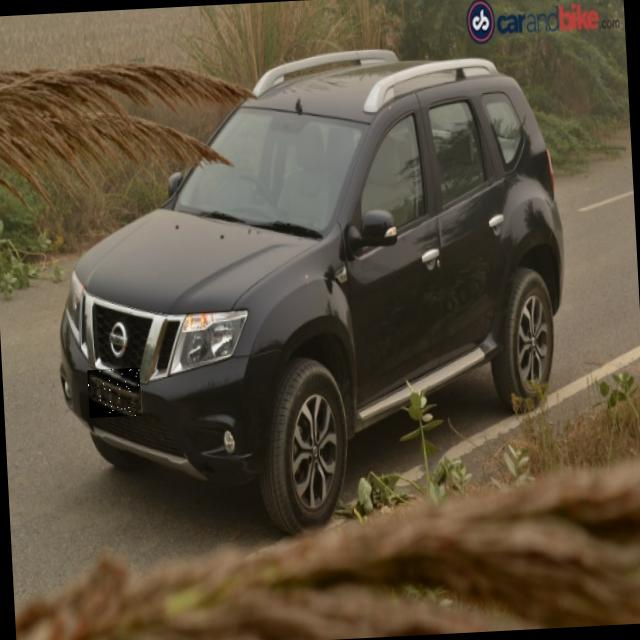Plate: (89, 369, 143, 420)
